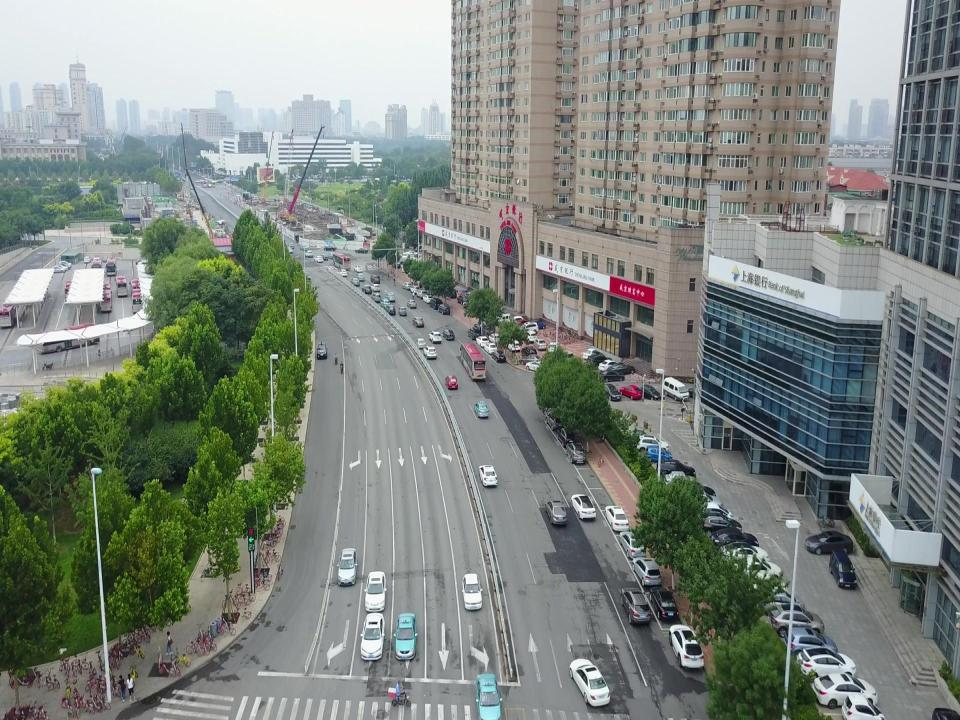bus: (36, 322, 100, 354), (460, 343, 487, 380), (0, 298, 19, 328), (114, 275, 128, 297), (333, 253, 351, 270), (132, 288, 144, 312), (100, 289, 112, 312), (64, 279, 77, 300), (100, 280, 112, 296), (91, 258, 103, 274), (106, 257, 116, 276), (130, 278, 140, 295)
car: (812, 674, 878, 710), (568, 656, 610, 709), (796, 646, 856, 682), (768, 604, 826, 639), (783, 627, 839, 660), (669, 624, 705, 670), (620, 585, 654, 627), (730, 557, 782, 584), (360, 610, 386, 662), (475, 672, 503, 720), (392, 612, 419, 661), (719, 542, 769, 568), (804, 530, 854, 555), (757, 590, 805, 616), (711, 528, 759, 553), (695, 512, 743, 537), (841, 693, 885, 720), (649, 586, 679, 621), (364, 571, 388, 613), (632, 557, 662, 586), (656, 459, 696, 480), (461, 573, 483, 610), (338, 547, 358, 586), (686, 491, 724, 511), (619, 530, 645, 558), (570, 493, 596, 521), (694, 503, 733, 521), (636, 434, 670, 453), (605, 505, 629, 531), (545, 500, 567, 526), (664, 470, 696, 486), (644, 445, 672, 463), (566, 442, 586, 464), (478, 465, 498, 486), (586, 355, 613, 370), (557, 428, 577, 447), (545, 411, 564, 430), (602, 383, 622, 401), (619, 385, 642, 400), (599, 370, 625, 383), (607, 362, 635, 374), (640, 385, 661, 400), (598, 359, 621, 372), (473, 401, 489, 417), (526, 361, 548, 372), (582, 348, 602, 360), (520, 354, 542, 364), (316, 341, 328, 359), (423, 345, 437, 360), (521, 346, 537, 358), (504, 339, 520, 351), (445, 375, 458, 389), (428, 330, 442, 343), (467, 327, 481, 340), (476, 335, 490, 348), (492, 350, 506, 362), (523, 330, 537, 342), (442, 328, 454, 341), (548, 341, 560, 354), (534, 338, 546, 351), (414, 338, 426, 349), (485, 343, 497, 354), (438, 304, 450, 315), (446, 287, 457, 299), (473, 322, 487, 331), (412, 317, 424, 327), (401, 281, 413, 291), (489, 334, 501, 344), (482, 327, 494, 336), (417, 289, 427, 299), (406, 299, 416, 309), (385, 305, 395, 315), (362, 284, 372, 294), (457, 294, 467, 304), (371, 293, 382, 302), (423, 295, 433, 304), (410, 285, 420, 294), (380, 299, 390, 308), (370, 274, 380, 283), (386, 293, 396, 301), (350, 278, 360, 286), (355, 273, 365, 281), (338, 268, 348, 276), (314, 255, 324, 263), (398, 307, 407, 315), (324, 245, 336, 251), (391, 260, 400, 268), (370, 284, 380, 291), (304, 250, 314, 257), (354, 265, 363, 272), (300, 244, 309, 251), (356, 248, 368, 253), (320, 254, 328, 261), (328, 252, 336, 259)
van: (829, 550, 857, 590), (663, 377, 689, 401), (494, 313, 510, 325), (429, 298, 442, 309), (215, 228, 225, 235), (252, 195, 260, 201)
